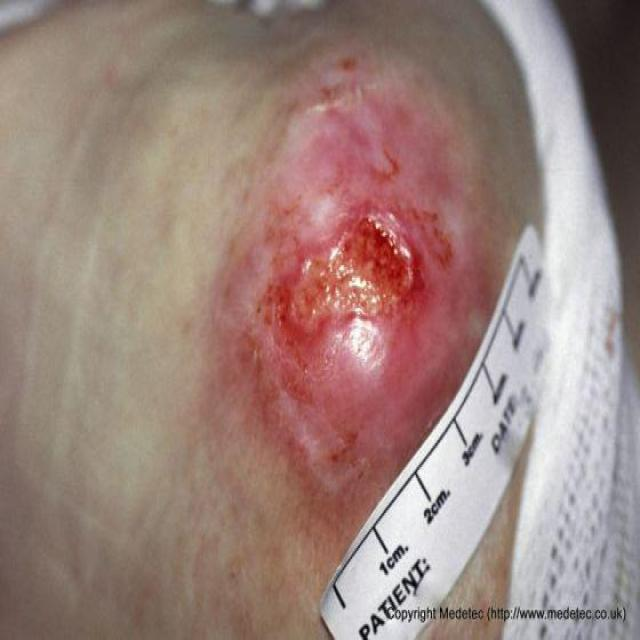stage-3: (289, 218, 417, 326)
